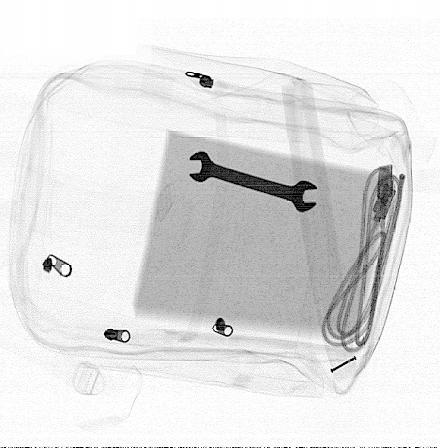Wrench: (187, 150, 320, 213)
